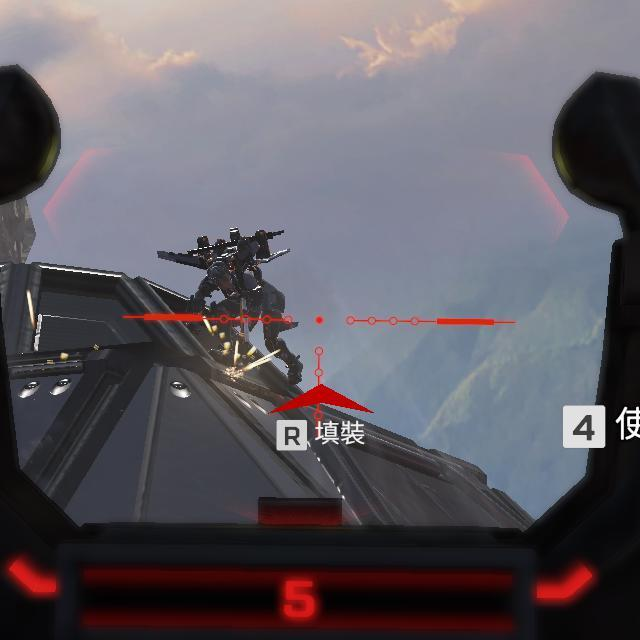avatar: (180, 225, 305, 387)
